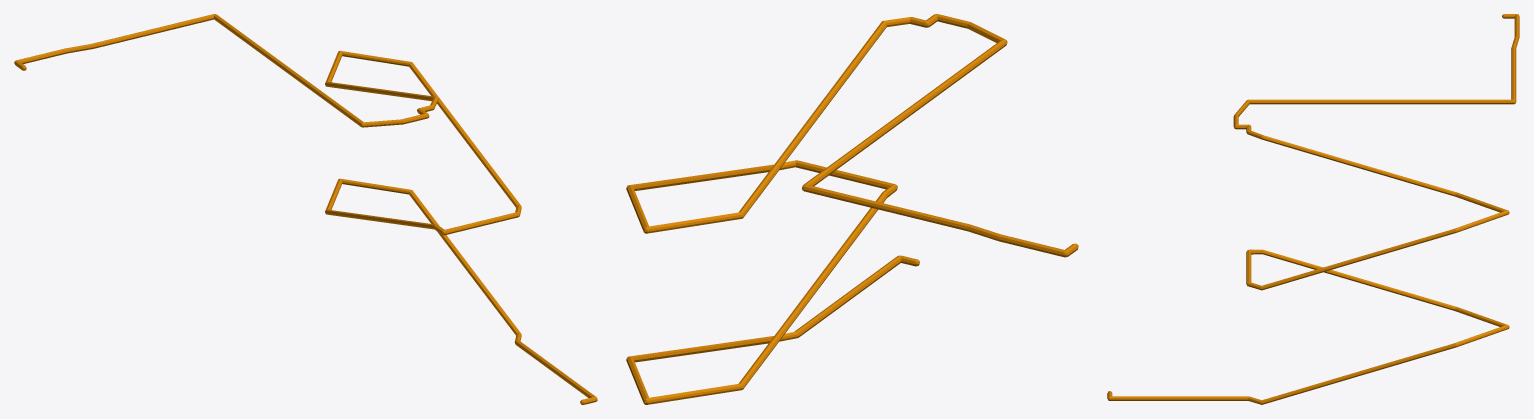
The picture shows the model from 3 angles, left to right: view 1: azimuth 30°, elevation 25°; view 2: azimuth 150°, elevation 25°; view 3: azimuth 270°, elevation 25°; orthographic projection. The views are drawn at different scales.
Size of the model in its own units: 1492 by 1020 by 1631.
